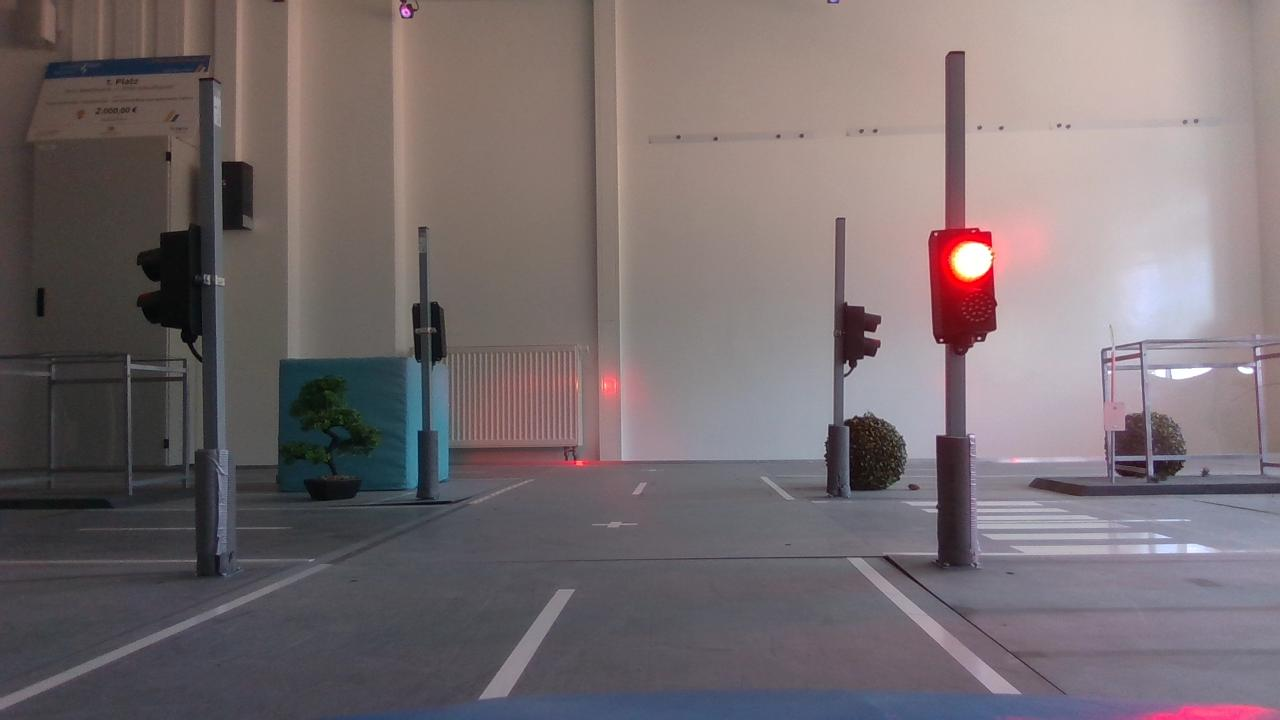traffic_light_red: (922, 215, 1007, 360)
